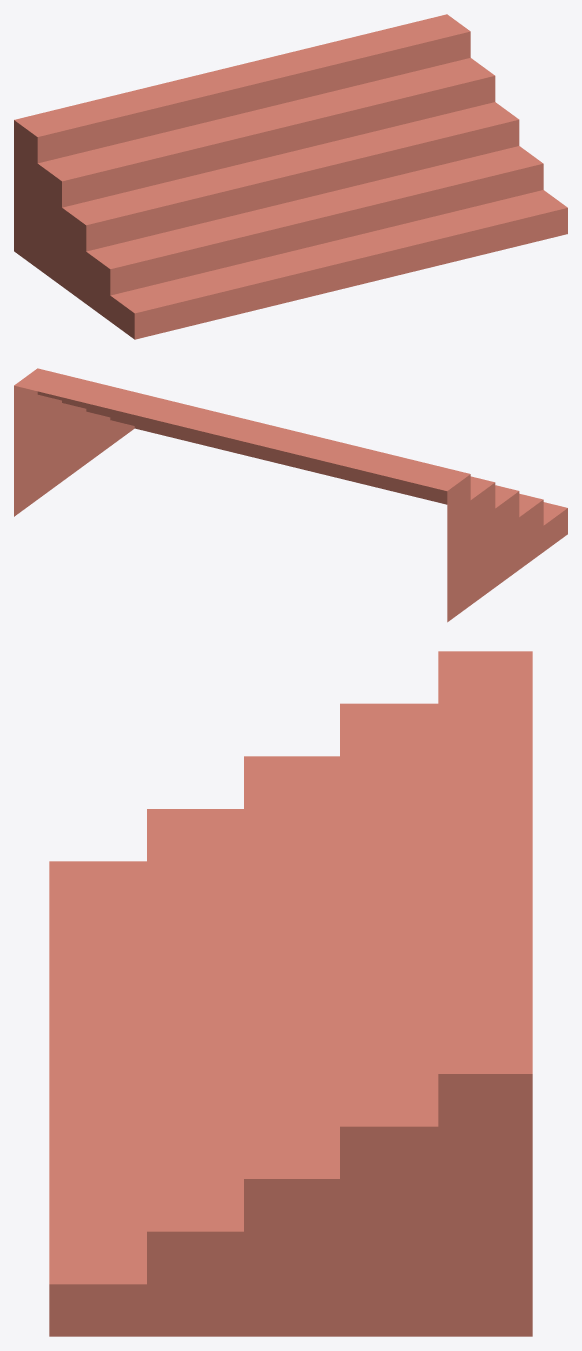
File: stairs.fbx
3 renders of one model, top to bottom at view 1: azimuth 30°, elevation 25°; view 2: azimuth 150°, elevation 25°; view 3: azimuth 270°, elevation 25°, orthographic. The views are drawn at different scales.
Parts seen in each view (by area): view 1: Stairs; view 2: Stairs; view 3: Stairs.
Part boxes in pixels (bbox=[...]): Stairs: bbox=[14, 14, 567, 339]; Stairs: bbox=[14, 368, 567, 622]; Stairs: bbox=[49, 651, 532, 1336].
Bounding box in the file's own units: 411 × 119 × 198.
